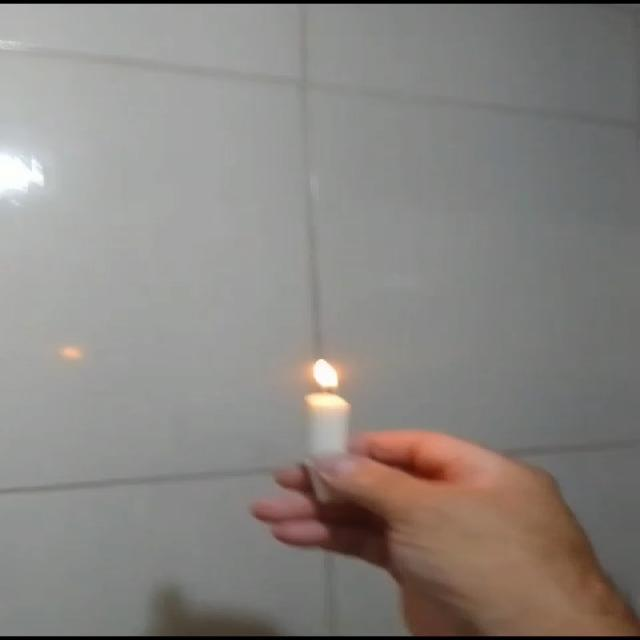fogo-ypXI: (302, 358, 347, 392)
